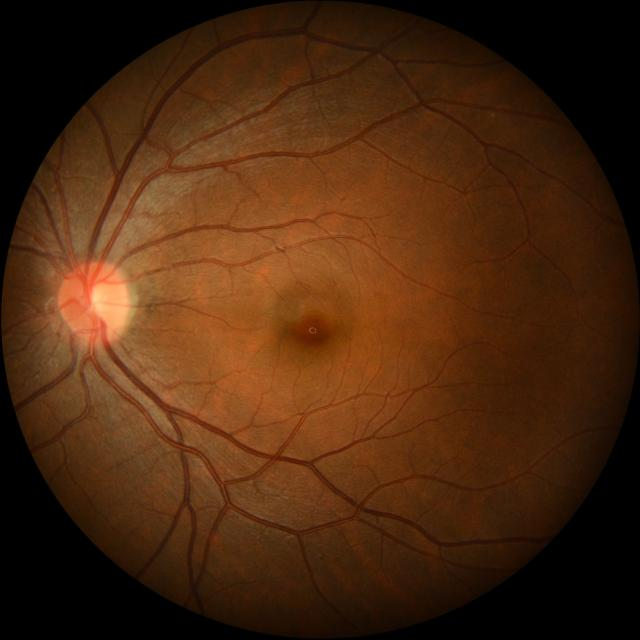OC: (87, 284, 114, 321)
OD: (58, 260, 131, 344)
